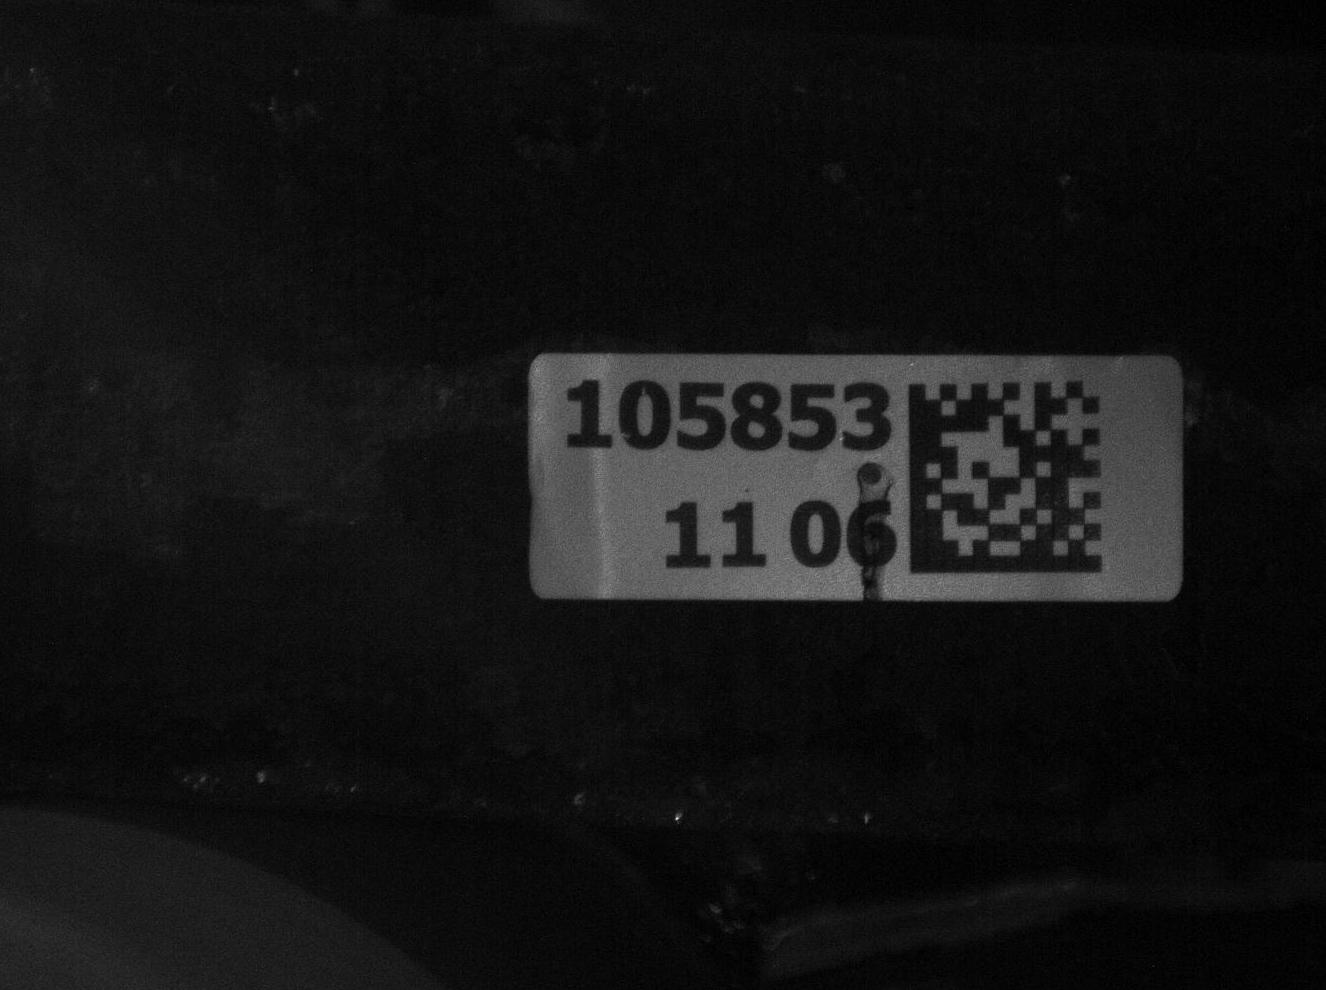data matrix: (903, 372, 1118, 587)
